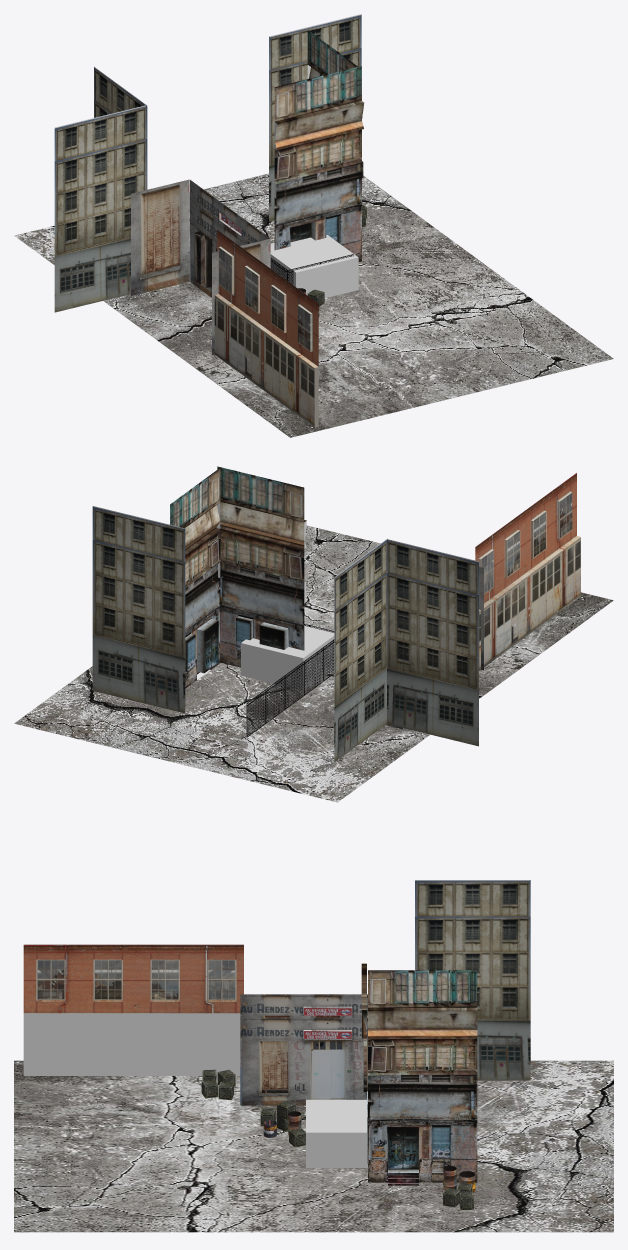
File: alley.glb
3 renders of one model, top to bottom at view 1: azimuth 30°, elevation 25°; view 2: azimuth 150°, elevation 25°; view 3: azimuth 270°, elevation 25°, orthographic. The views are drawn at different scales.
Visible parts, largest first — view 1: Plane, object 27, Plane.003, object 24, Plane.001, object 25, Cube, object 26, Plane.002; view 2: Plane, object 25, object 27, Plane.003, object 24, object 26, Plane.002, Cube, object 23; view 3: Plane, Plane.002, object 26, object 24, paint.left-wall, Plane.001, Cube, Plane.003.
Part boxes in pixels (<box>): Plane: <box>14,173,613,437</box>; object 27: <box>54,105,146,312</box>; Plane.003: <box>274,66,364,261</box>; object 24: <box>214,229,318,427</box>; Plane.001: <box>131,179,270,354</box>; object 25: <box>269,14,361,221</box>; Cube: <box>270,235,358,297</box>; object 26: <box>94,67,147,290</box>; Plane.002: <box>307,30,357,78</box>; Plane: <box>14,525,613,802</box>; object 25: <box>92,506,185,713</box>; object 27: <box>387,539,478,746</box>; Plane.003: <box>217,466,306,667</box>; object 24: <box>475,473,580,670</box>; object 26: <box>334,538,387,761</box>; Plane.002: <box>170,468,220,688</box>; Cube: <box>241,623,334,690</box>; object 23: <box>246,639,334,737</box>; Plane: <box>14,1060,613,1232</box>; Plane.002: <box>368,970,477,1185</box>; object 26: <box>415,880,530,1080</box>; object 24: <box>23,944,243,1013</box>; paint.left-wall: <box>23,1013,240,1075</box>; Plane.001: <box>240,994,367,1105</box>; Cube: <box>306,1099,367,1167</box>; Plane.003: <box>361,963,367,1163</box>.
Size of the model in its own units: 12.2 by 7 by 15.34.
Materials: 5 (4 with a texture image).
